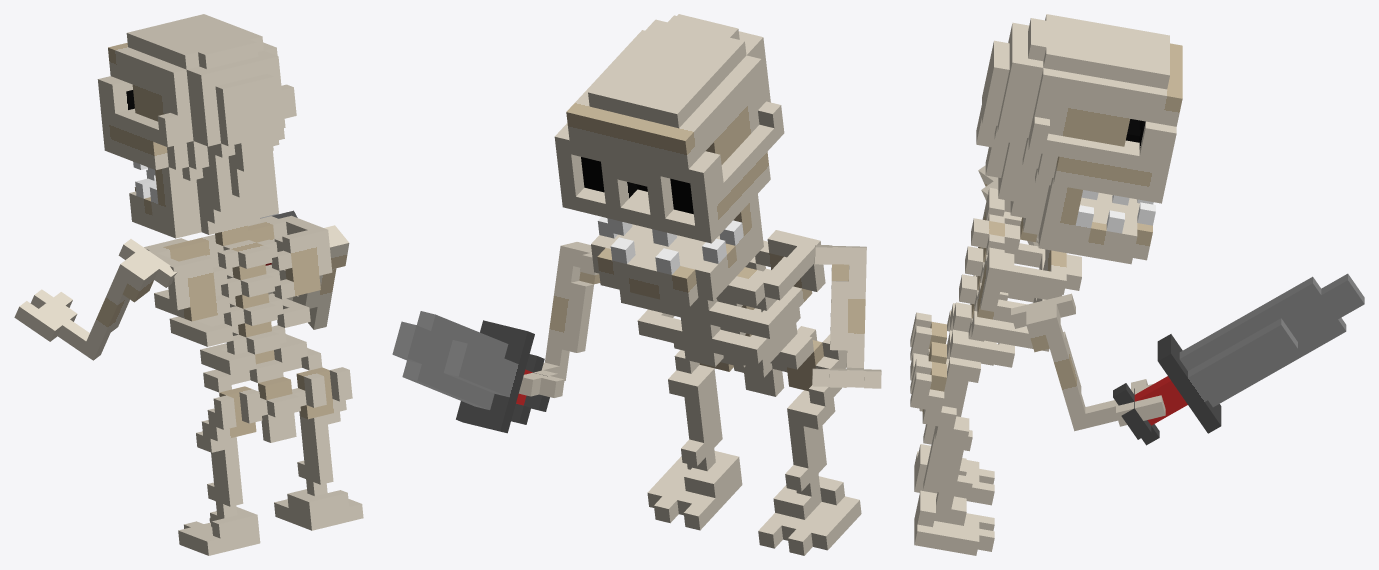
Rendered from skeletonAttacking.dae.
3 views of the same model, side by side, from view 1: azimuth 30°, elevation 25°; view 2: azimuth 150°, elevation 25°; view 3: azimuth 270°, elevation 25° (orthographic). The views are drawn at different scales.
Visible parts, largest first — view 1: head-local, chest-local, legL-local, legR-local, armL-local, armR-local; view 2: head-local, chest-local, sword-local, legL-local, legR-local, armR-local, armL-local; view 3: head-local, sword-local, chest-local, legR-local, armR-local, legL-local.
Part boxes in pixels (left/top/right/bottom): head-local: left=97, top=14, right=296, bottom=245; chest-local: left=144, top=215, right=332, bottom=392; legL-local: left=178, top=380, right=287, bottom=555; legR-local: left=271, top=367, right=363, bottom=530; armL-local: left=14, top=239, right=177, bottom=360; armR-local: left=268, top=225, right=349, bottom=329; head-local: left=554, top=14, right=784, bottom=306; chest-local: left=619, top=230, right=825, bottom=369; sword-local: left=392, top=311, right=549, bottom=433; legL-local: left=748, top=326, right=861, bottom=555; legR-local: left=647, top=350, right=760, bottom=530; armR-local: left=519, top=242, right=600, bottom=397; armL-local: left=812, top=245, right=881, bottom=388; head-local: left=976, top=14, right=1182, bottom=264; sword-local: left=1113, top=273, right=1364, bottom=445; chest-local: left=947, top=187, right=1081, bottom=382; legR-local: left=910, top=348, right=994, bottom=555; armR-local: left=1011, top=293, right=1165, bottom=431; legL-local: left=910, top=312, right=994, bottom=505.
Bounding box in the file's own units: 24.19 × 34.14 × 28.85.
7 materials, 7 textured.
